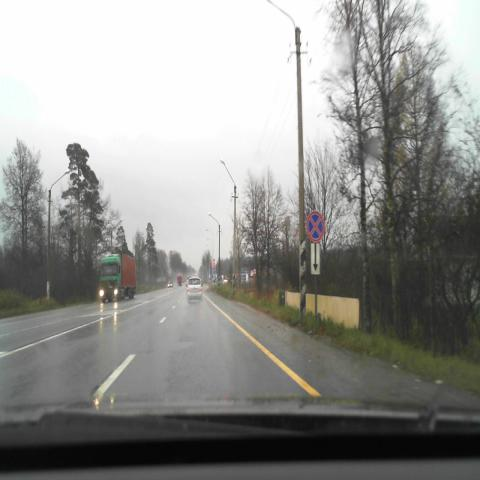3_27: (306, 210, 324, 243)
8_2_3: (311, 243, 320, 275)
